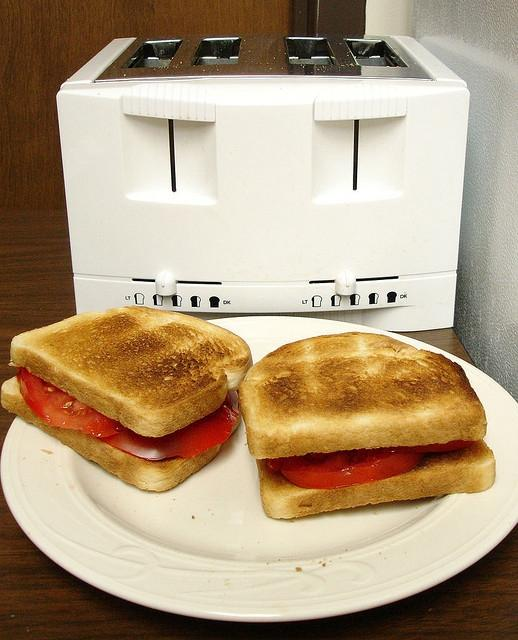tomato: (100, 392, 240, 462), (17, 368, 124, 438), (400, 440, 474, 452)
